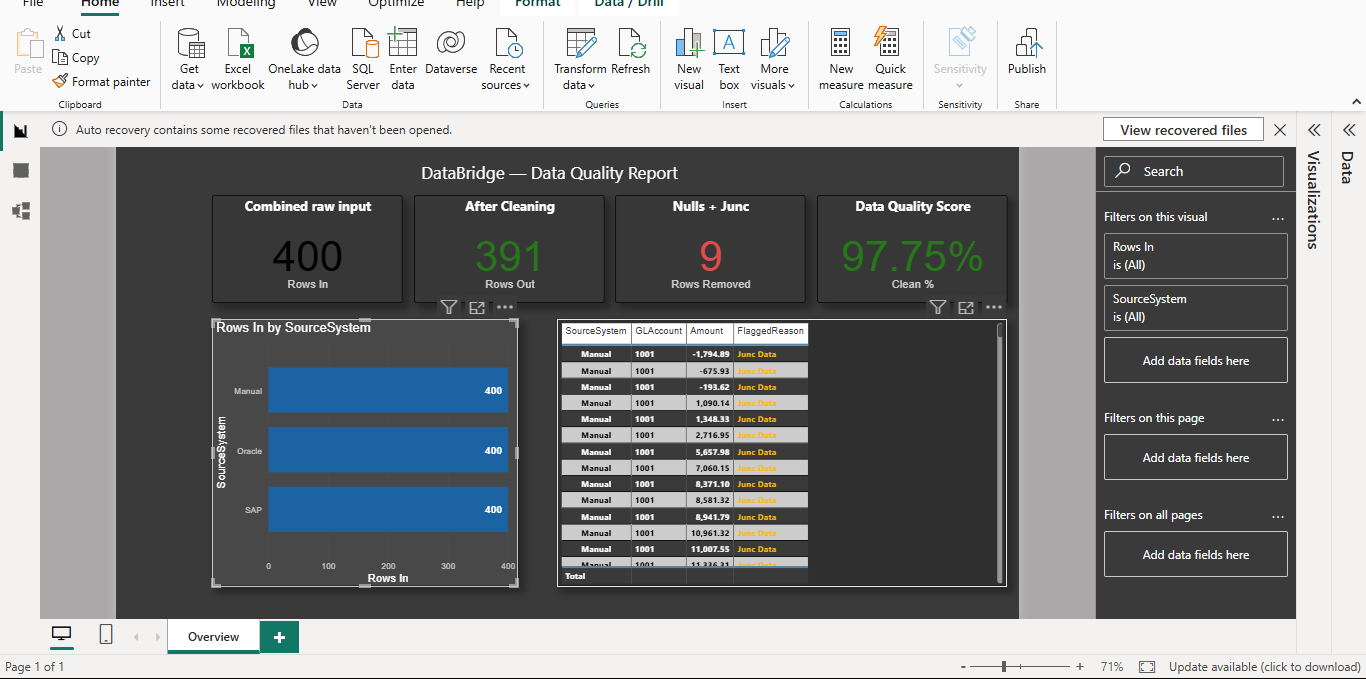

Layout of this report page (visuals, bound fields, positions):
{"tool":"powerbi","page":{"name":"Overview","canvas":[1280,720],"ordinal":0},"visuals":[{"type":"card","title":"Data Quality Score","fields":{"Values":["CombinedGL.Clean %"]},"box":[993.1,119.1,270.1,152.7],"z":0},{"type":"barChart","fields":{"Category":["CombinedGL.SourceSystem"],"Y":["CombinedGL.Rows In"]},"box":[135.9,295.3,434.5,379.1],"z":1000},{"type":"textbox","box":[0,0,1177.7,110.7],"z":2000},{"type":"card","title":"Nulls + Junc","fields":{"Values":["CombinedGL.Rows Removed"]},"box":[707.9,119.1,270.1,152.7],"z":3000},{"type":"card","title":"After Cleaning","fields":{"Values":["CombinedGL.Rows Out"]},"box":[422.8,119.1,270.1,152.7],"z":4000},{"type":"card","title":"Combined raw input","fields":{"Values":["CombinedGL.Rows In"]},"box":[135.9,119.1,270.1,152.7],"z":5000},{"type":"tableEx","fields":{"Values":["CombinedGL.SourceSystem","CombinedGL.GLAccount","CombinedGL.Amount","CombinedGL.FlaggedRows"]},"box":[625.7,295.3,637.5,379.1],"z":6000},{"type":"textbox","box":[115.8,65.4,996.5,45.3],"z":7000}]}

Visuals, with their boxes on the page's 1280x720 design canvas (x1, y1, x2, y2). These are canvas units, not pixel positions in the 1366x679 screenshot, which may show the page scaled, cropped or inside an application window:
"Data Quality Score" card: box(993, 119, 1263, 272)
barChart - CombinedGL.SourceSystem x CombinedGL.Rows In: box(136, 295, 570, 674)
textbox: box(0, 0, 1178, 111)
"Nulls + Junc" card: box(708, 119, 978, 272)
"After Cleaning" card: box(423, 119, 693, 272)
"Combined raw input" card: box(136, 119, 406, 272)
tableEx - CombinedGL.SourceSystem x CombinedGL.GLAccount: box(626, 295, 1263, 674)
textbox: box(116, 65, 1112, 111)
